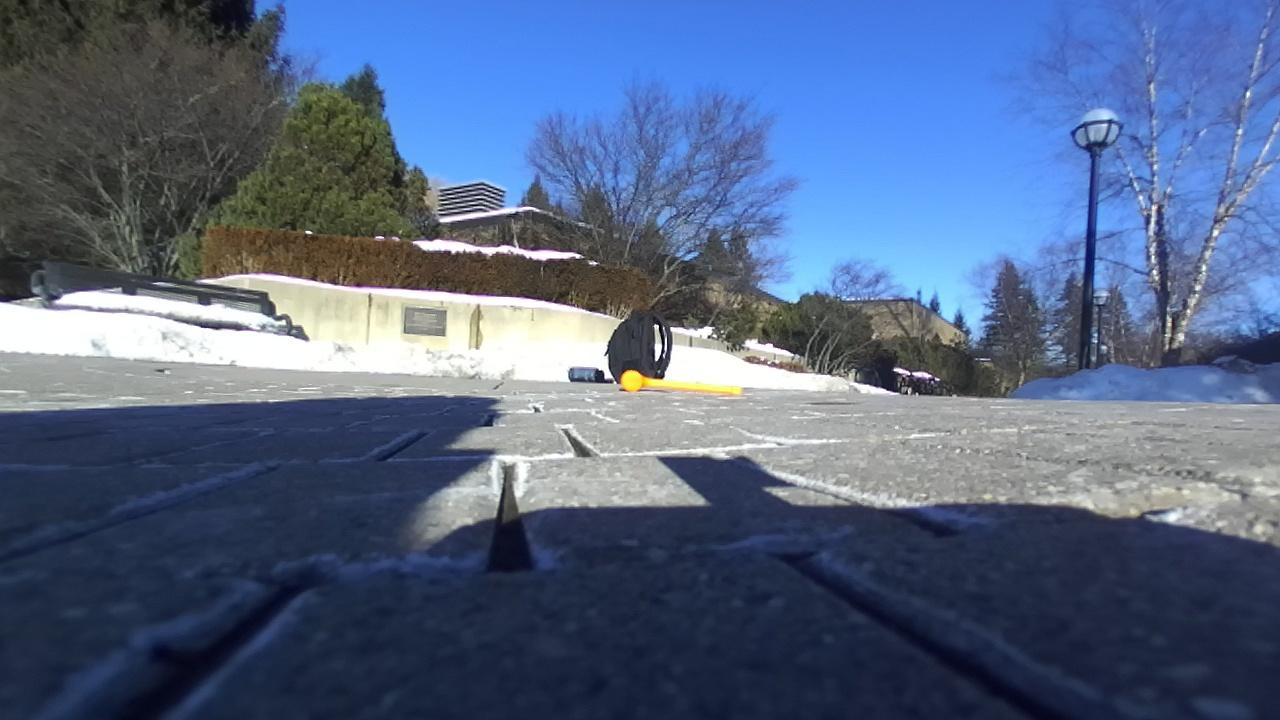bottle: (569, 368, 606, 381)
mallet: (618, 370, 741, 393)
